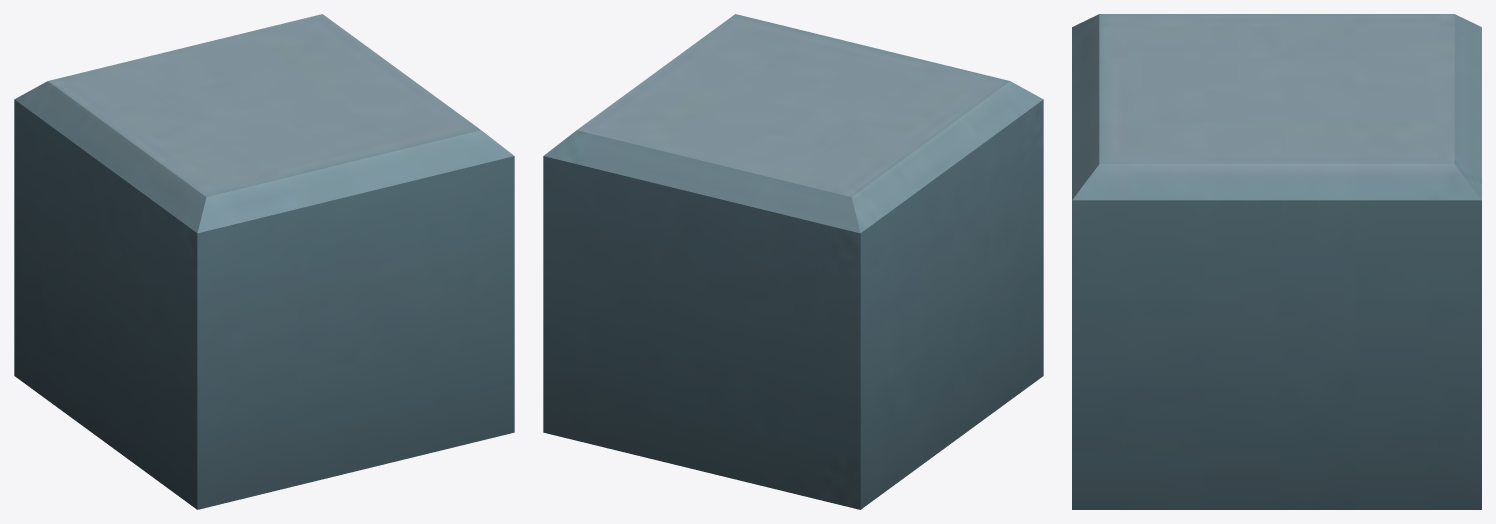
Rendered from ice.glb.
3 renders of one model, left to right at view 1: azimuth 30°, elevation 25°; view 2: azimuth 150°, elevation 25°; view 3: azimuth 270°, elevation 25°, orthographic. The views are drawn at different scales.
Visible parts, largest first — view 1: ice; view 2: ice; view 3: ice.
Part boxes in pixels (x1=…): ice: x1=14, y1=14, x2=514, y2=509; ice: x1=543, y1=14, x2=1043, y2=509; ice: x1=1072, y1=14, x2=1481, y2=509.
Size of the model in its own units: 0.18 by 0.162 by 0.18.
Materials: 1 (1 with a texture image).
